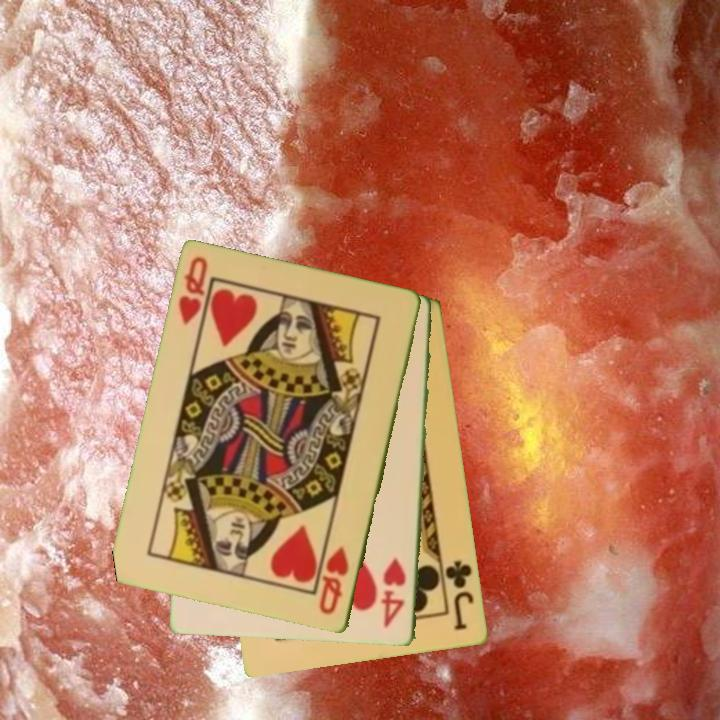4h: (380, 555, 409, 631)
Jc: (442, 557, 477, 634)
Qh: (175, 253, 214, 338), (316, 543, 353, 618)
